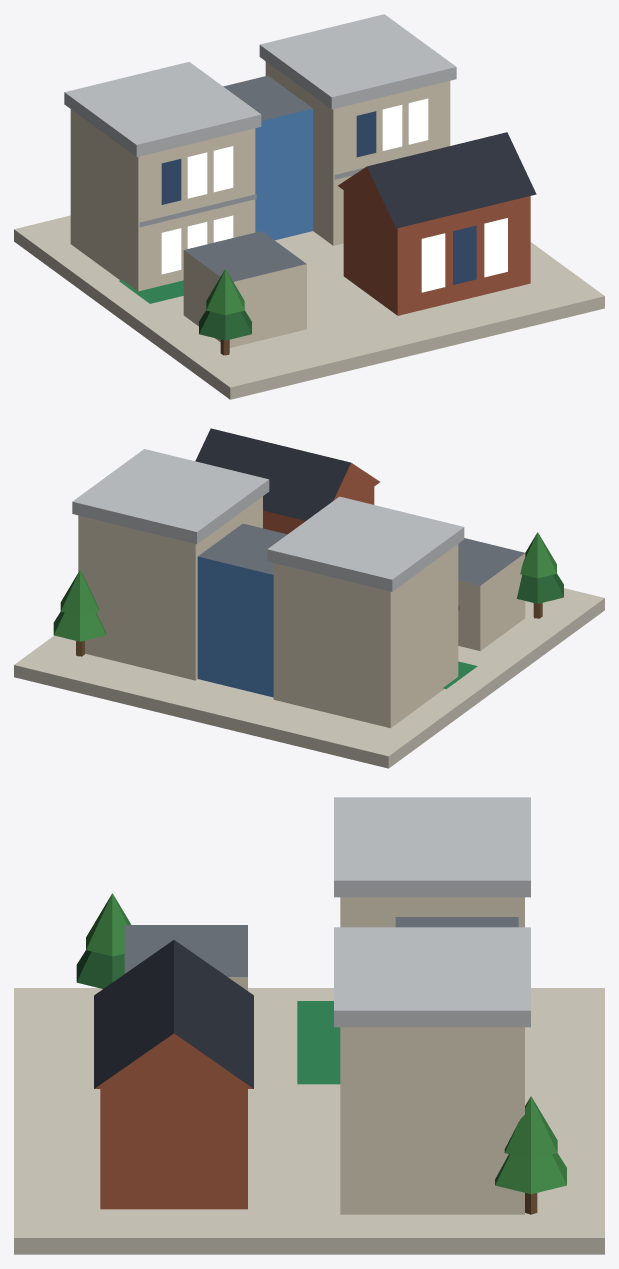
The picture shows the model from 3 angles, top to bottom: view 1: azimuth 30°, elevation 25°; view 2: azimuth 150°, elevation 25°; view 3: azimuth 270°, elevation 25°; orthographic projection. The views are drawn at different scales.
Parts seen in each view (by area): view 1: b29; view 2: b29; view 3: b29.
Part boxes in pixels (bbox=[...]): b29: bbox=[14, 14, 604, 399]; b29: bbox=[14, 428, 604, 768]; b29: bbox=[14, 797, 604, 1254].
Size of the model in its own units: 0.96 by 0.4 by 0.96.
